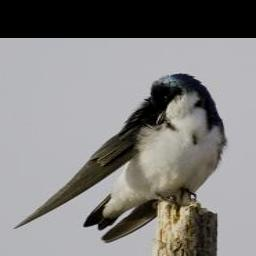Swallow: (14, 70, 231, 244)
